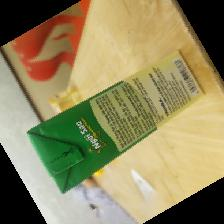NSPN_Hop: (25, 49, 207, 196)
